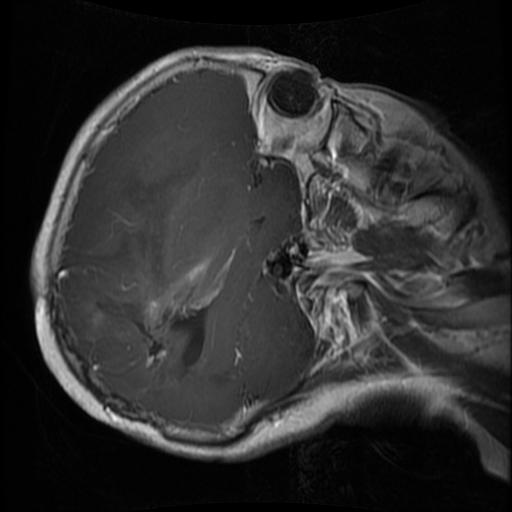glioma: (96, 247, 235, 374)
